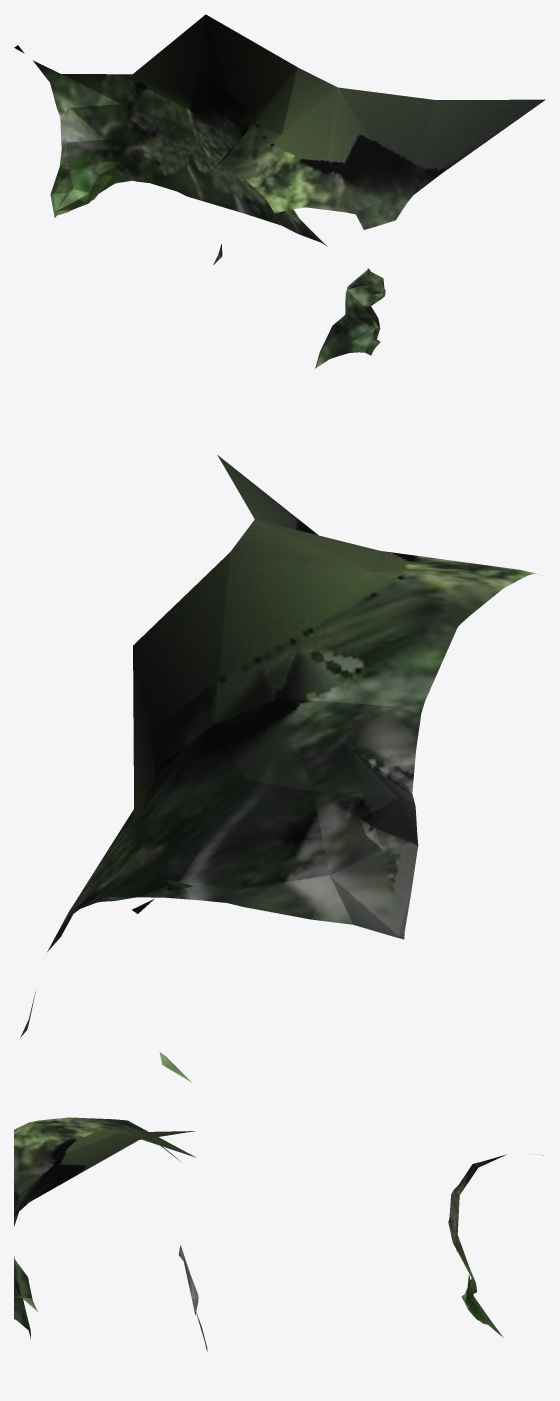
3 renders of one model, top to bottom at view 1: azimuth 30°, elevation 25°; view 2: azimuth 150°, elevation 25°; view 3: azimuth 270°, elevation 25°, orthographic. The views are drawn at different scales.
Bounding box in the file's own units: 15.7 × 12.14 × 26.11.
2 materials, 2 textured.
